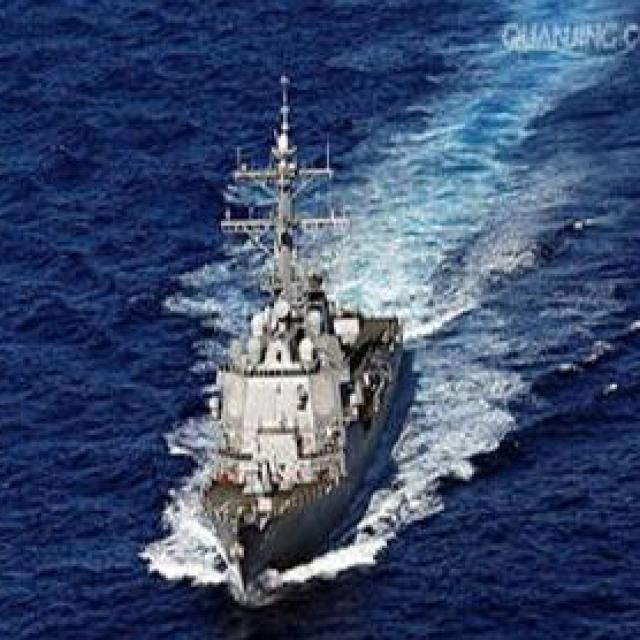navalvessels: (189, 81, 402, 591)
